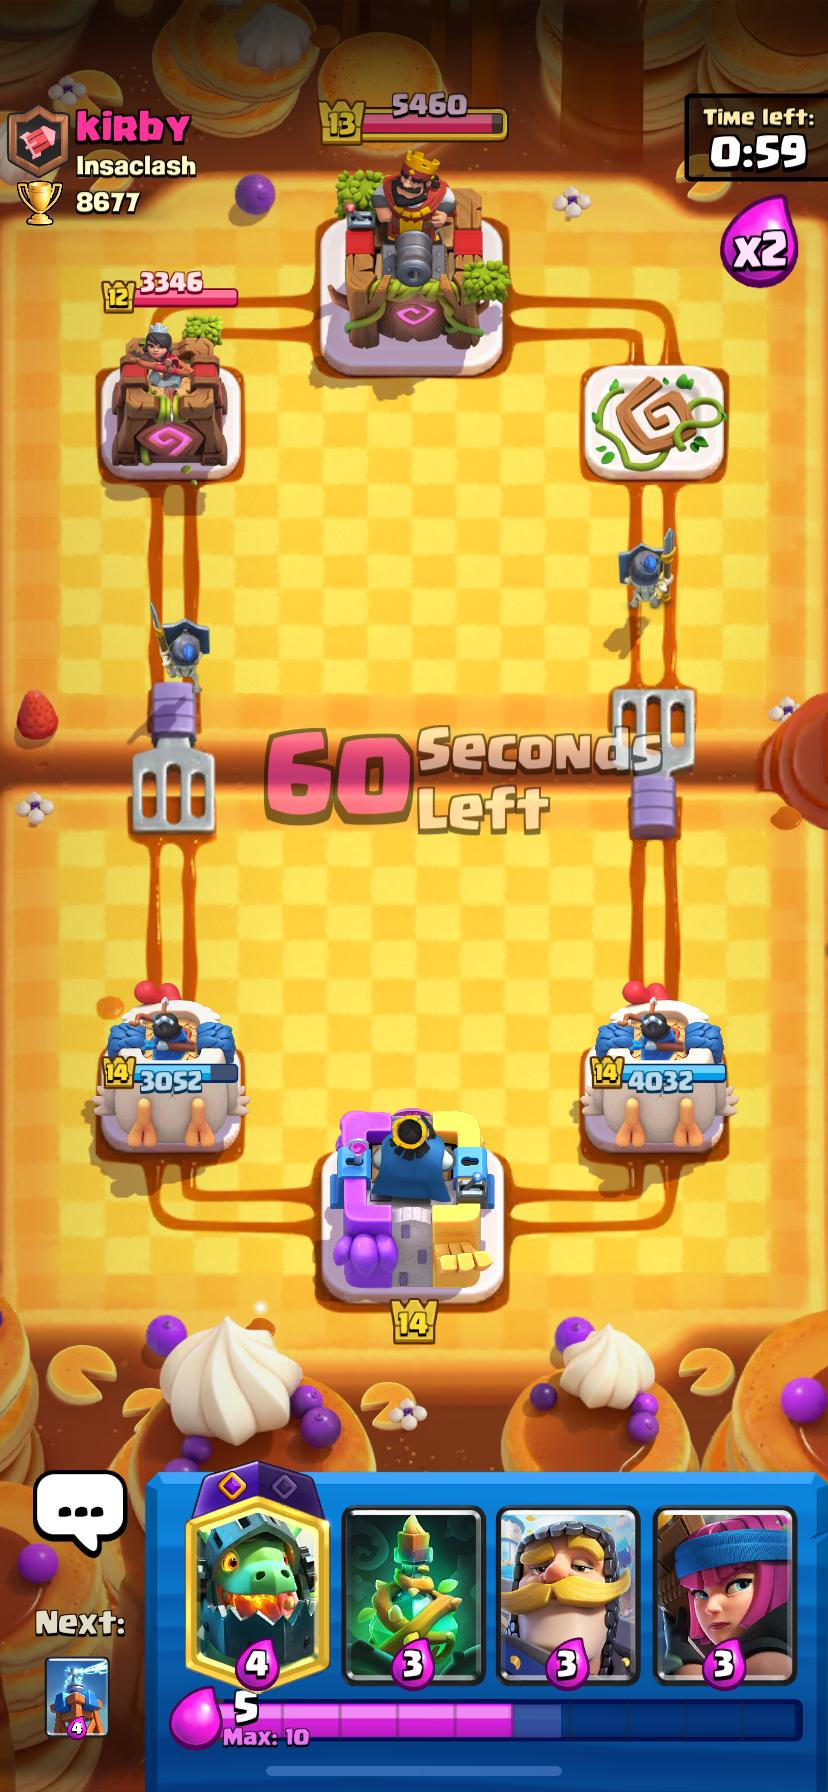EKingTower: (329, 150, 509, 374)
EnemyPrincessTower: (112, 325, 226, 472)
OGuard: (150, 603, 208, 694), (619, 528, 675, 608)
OwnKingTower: (321, 1109, 503, 1303)
OwnPrincessTower: (581, 982, 735, 1154), (93, 983, 248, 1152)
TowerDown: (583, 366, 723, 480)
